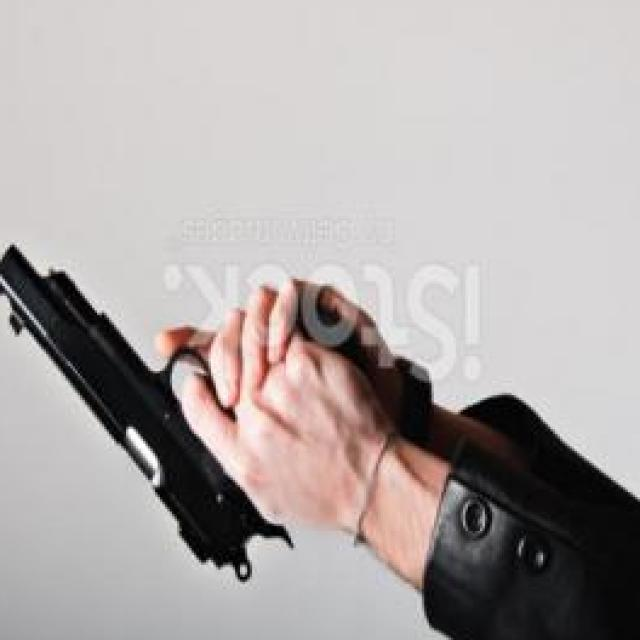pistol: (0, 235, 366, 582)
